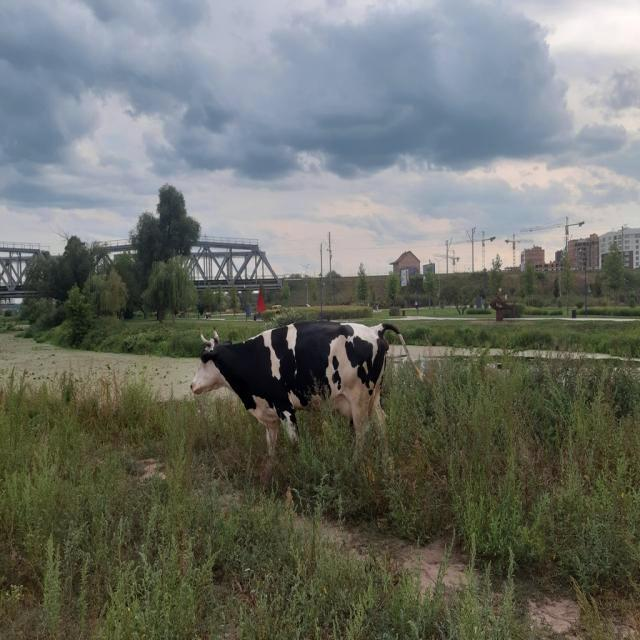cow: (191, 321, 400, 457)
